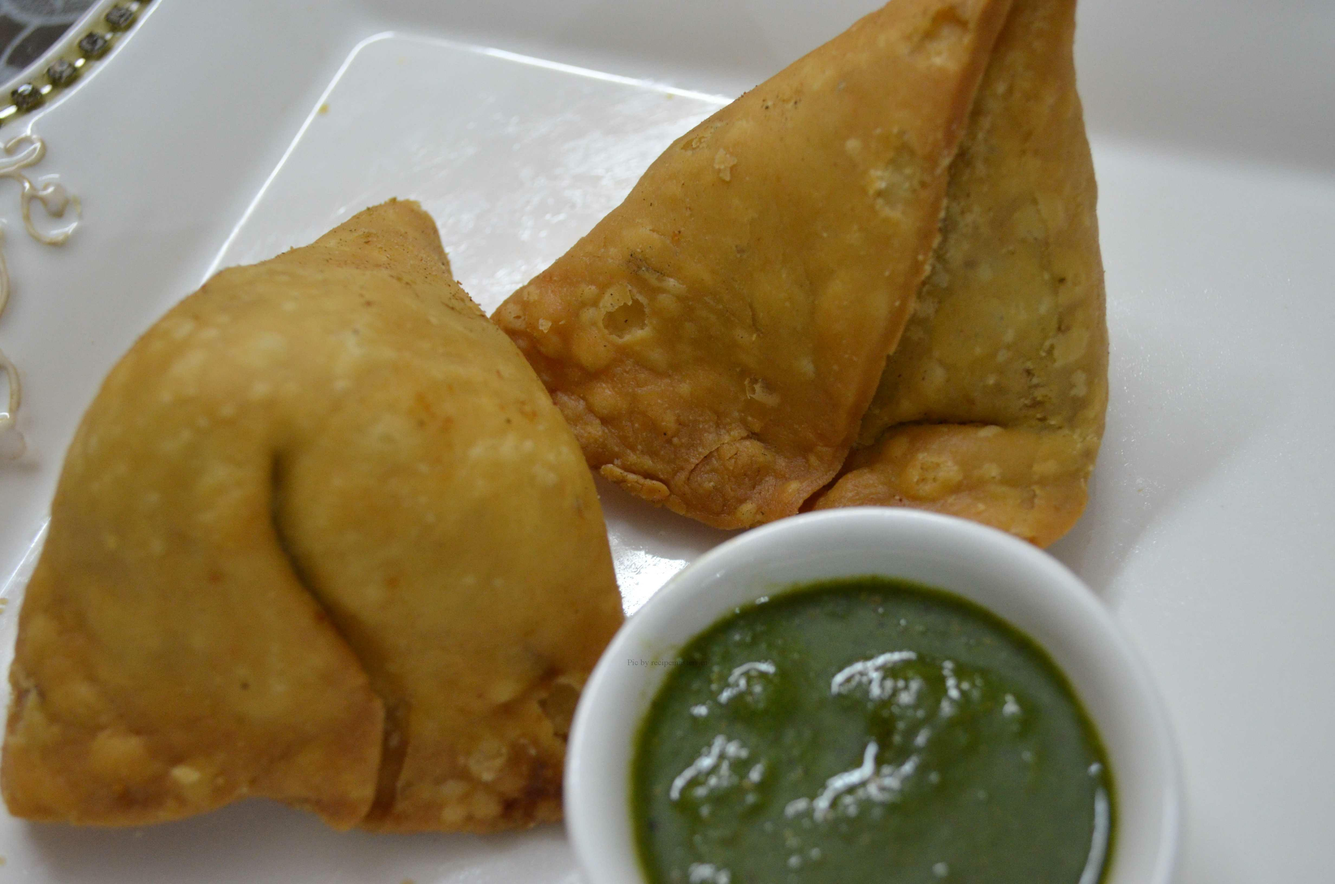Samosa: (0, 198, 624, 833), (487, 0, 1112, 552)
